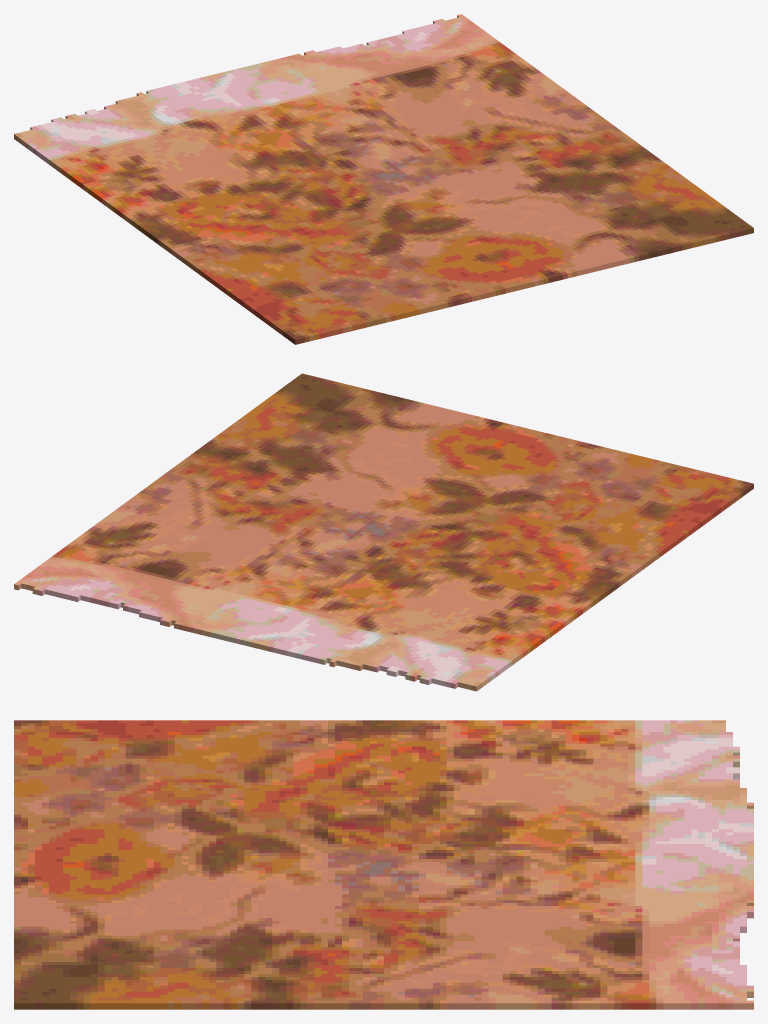
Rendered from beda.vox-9-beda.obj.
3 views of the same model, one above another, from view 1: azimuth 30°, elevation 25°; view 2: azimuth 150°, elevation 25°; view 3: azimuth 270°, elevation 25° (orthographic). The views are drawn at different scales.
Visible parts, largest first — view 1: beda; view 2: beda; view 3: beda.
Boxes of the visible parts, x1,y1,x2,y2 form: beda: [14, 14, 753, 344]; beda: [14, 373, 753, 691]; beda: [14, 720, 753, 1009].
Bounding box in the file's own units: 9.6 × 0.1 × 10.6.
1 material, 1 textured.
